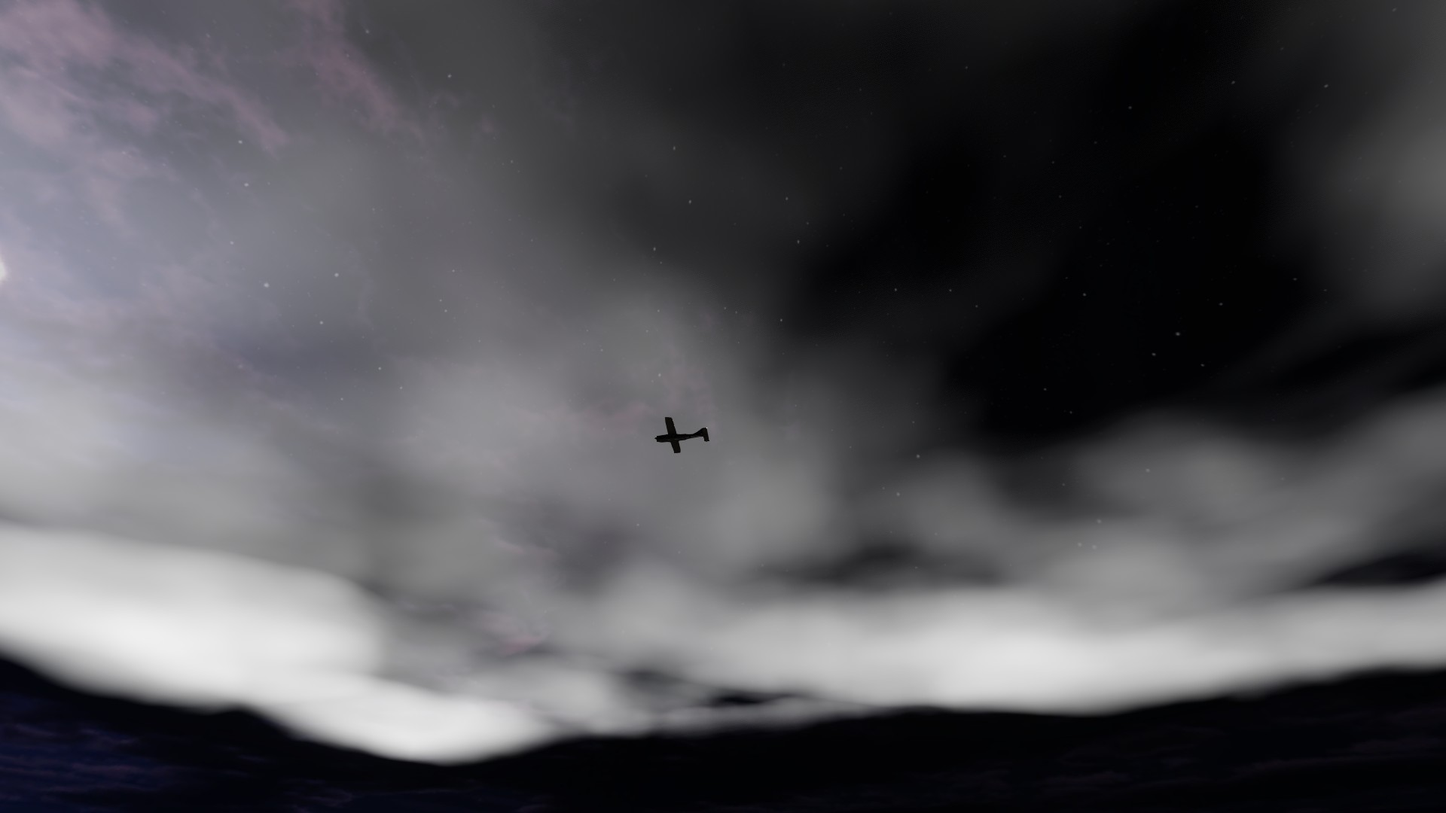drone_other: (654, 417, 709, 454)
